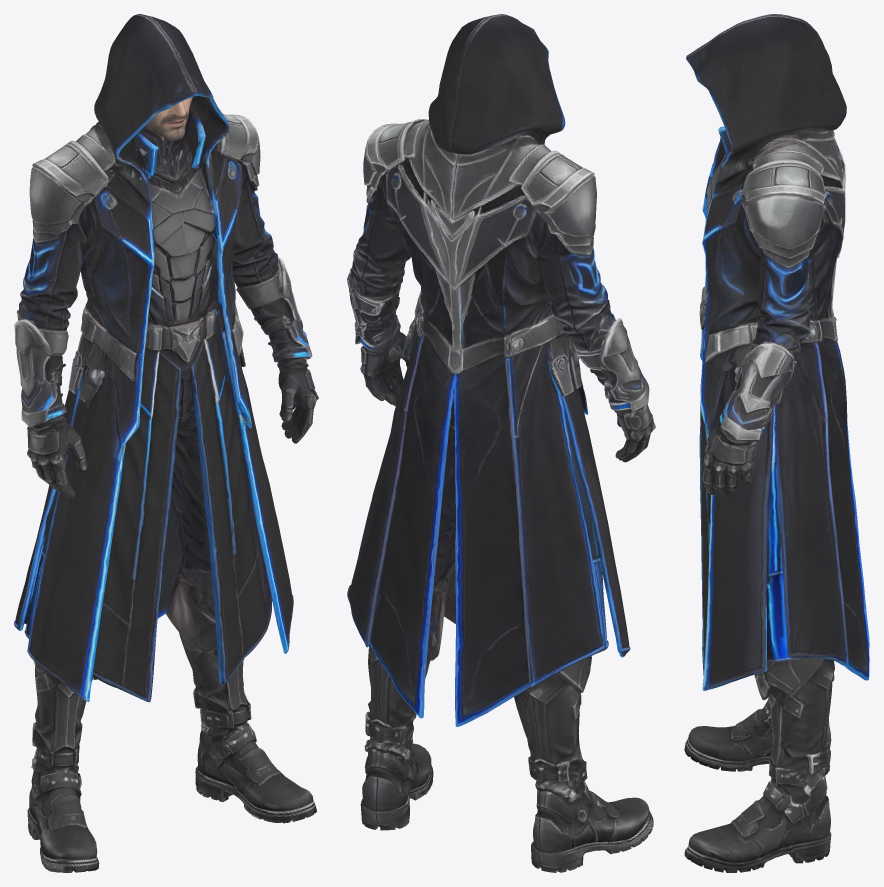
The model's file is NOVA.glb.
The picture shows the model from 3 angles, left to right: view 1: azimuth 30°, elevation 25°; view 2: azimuth 150°, elevation 25°; view 3: azimuth 270°, elevation 25°; orthographic projection.
Size of the model in its own units: 0.6993 by 1.9 by 0.4006.
Materials: 1 (1 with a texture image).
